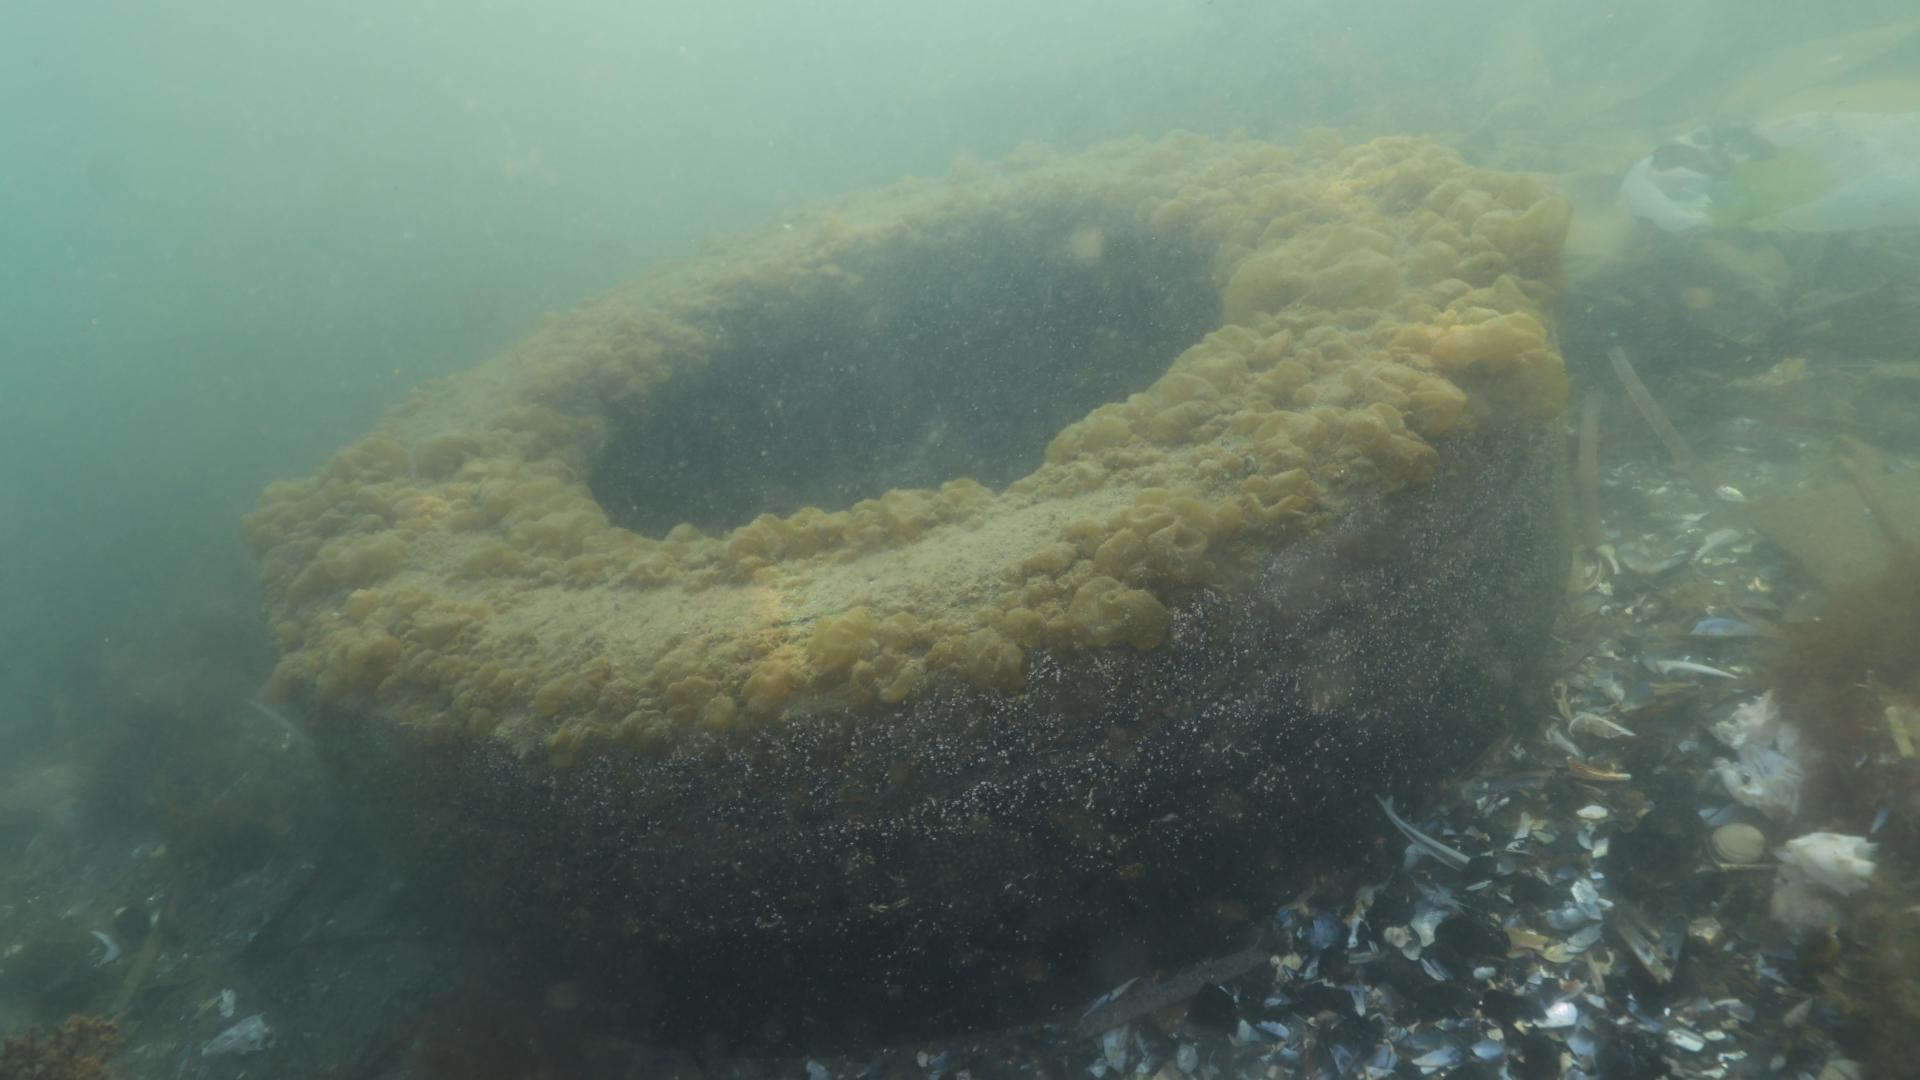tire: (276, 140, 1569, 971)
